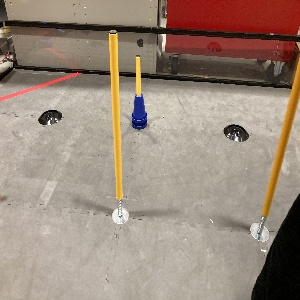Blue_2: (130, 91, 147, 130)
